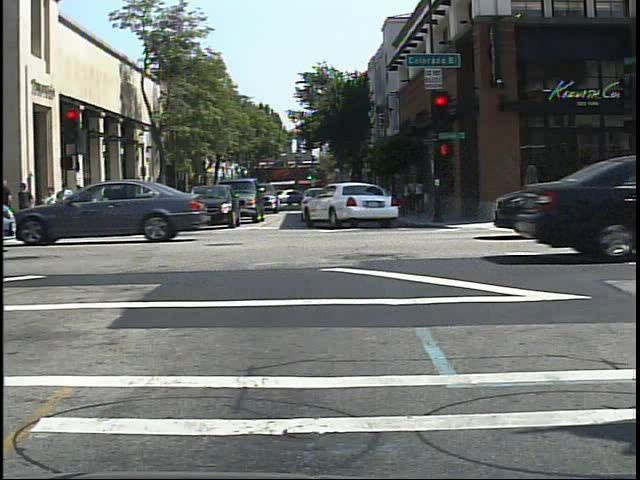person: (102, 186, 116, 226), (143, 181, 159, 213), (139, 181, 154, 212)
